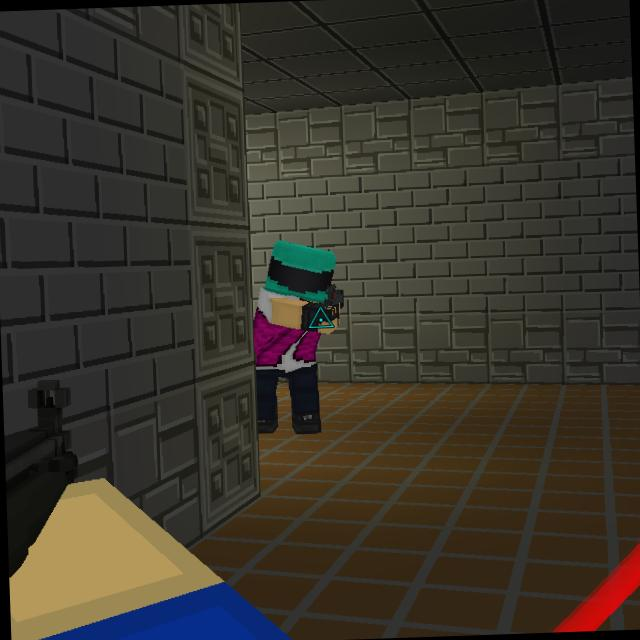enemy: (240, 233, 358, 440)
